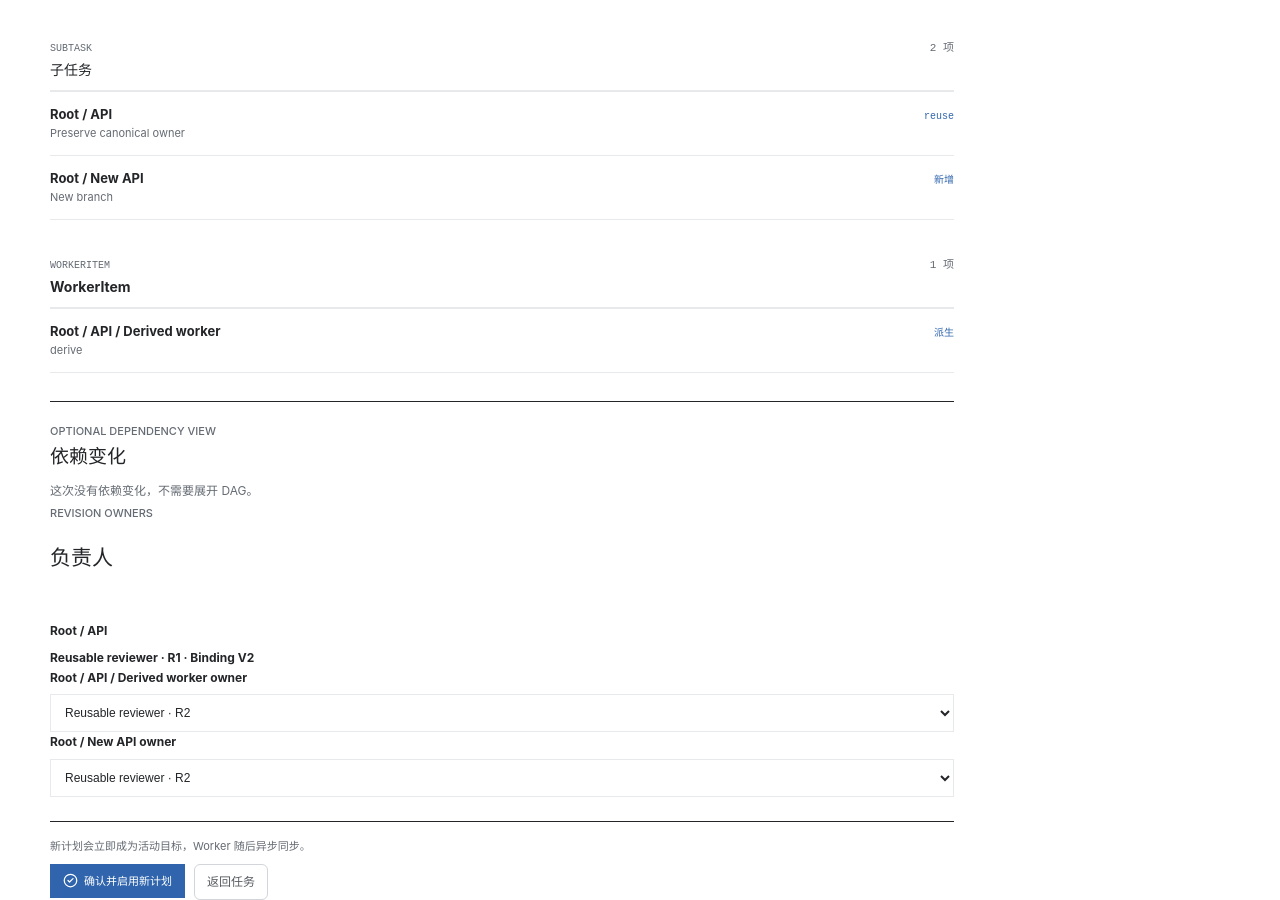
Test: native PlanRevisionPage › classifies an applied stale-base result as a conflict, not plan activation
(page scrolled)
Click the button "确认并启用新计划" at (118, 881), box [50, 864, 185, 898]
(page scrolled)
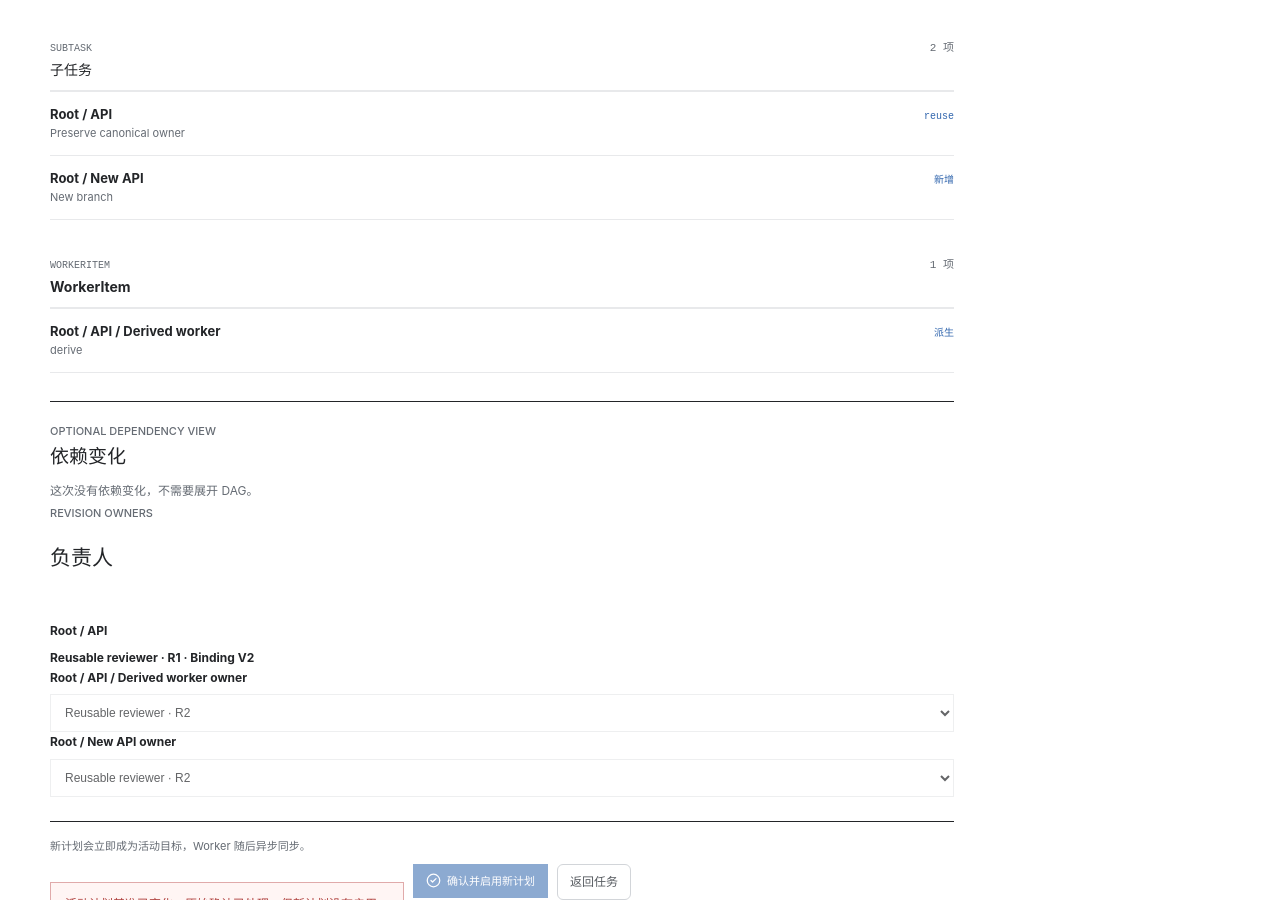
Expected: the button "确认并启用新计划" is disabled, [413, 864, 548, 898]
